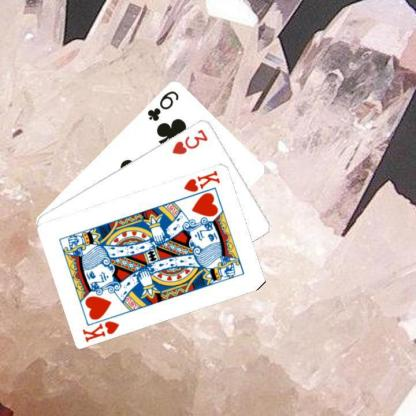3H: (169, 126, 210, 155)
6C: (144, 87, 180, 122)
KH: (181, 168, 221, 193), (80, 318, 121, 342)
